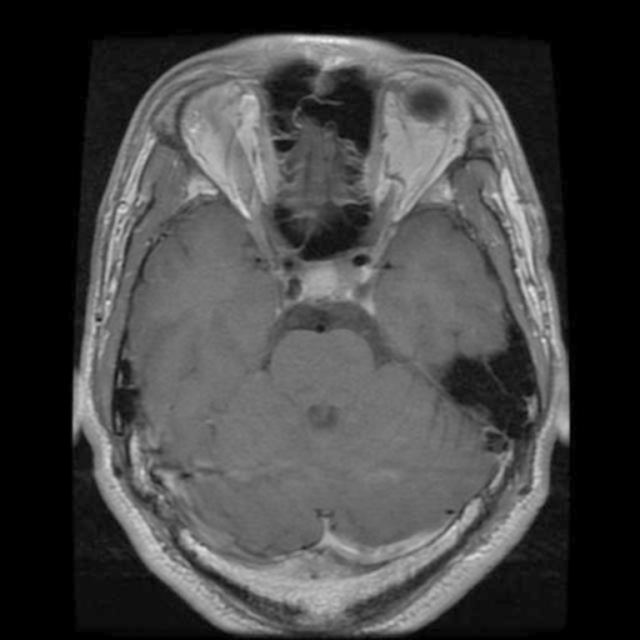no tumor: (304, 250, 371, 309)
